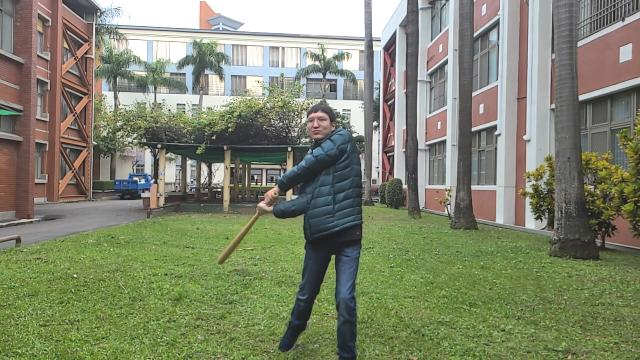bat: (216, 213, 260, 265)
